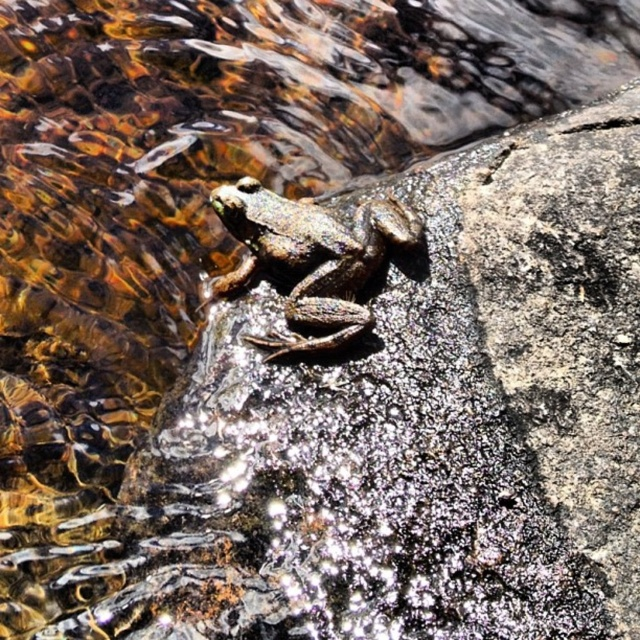Frog: (208, 176, 427, 365)
